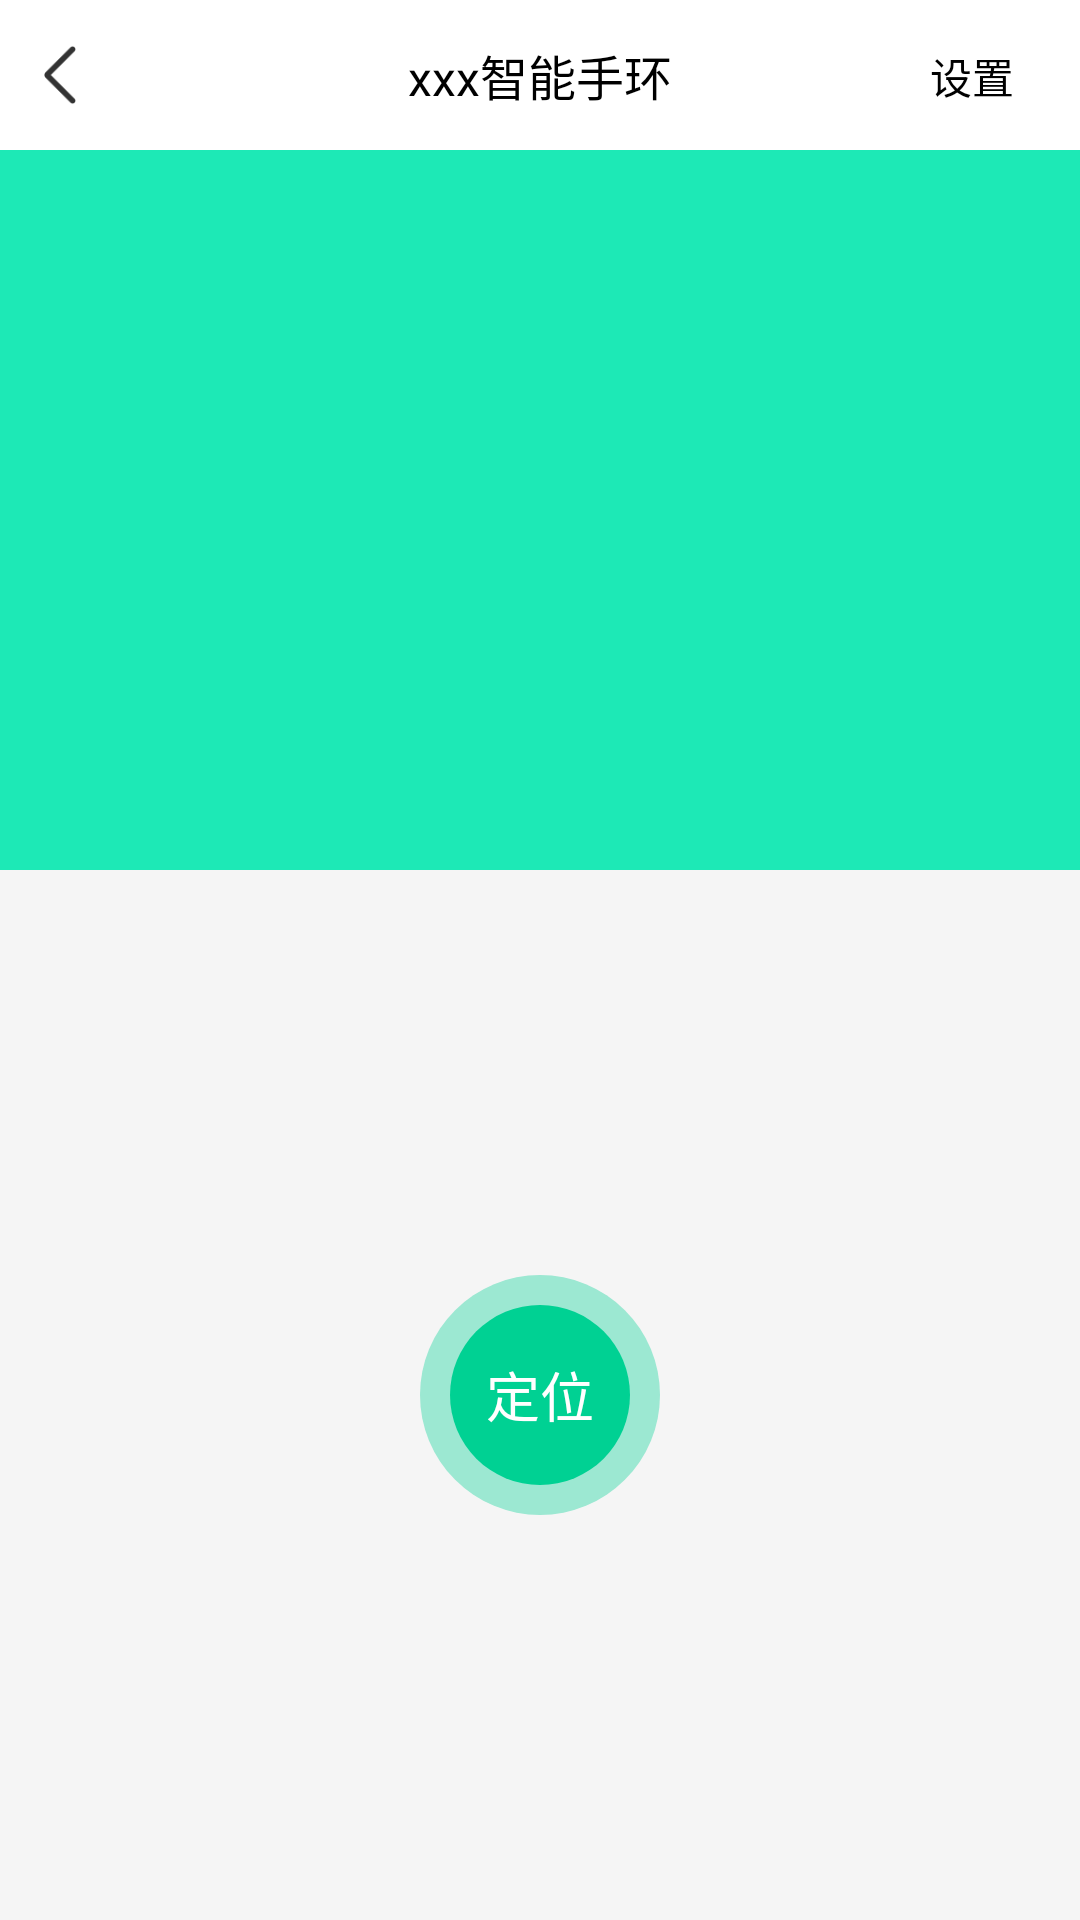

Icon bounding boxes for this 1080 × 1920 phone screenshot, format (left=x1, top=y1, right=x2, bottom=y2):
返回上一界面: (left=44, top=46, right=76, bottom=104)
